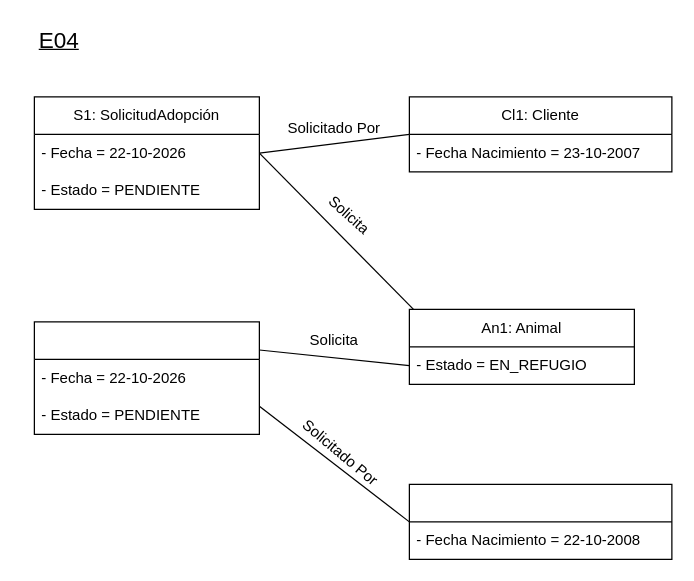
Some shapes in this 694 by 581 pixel diagram are drawn without their labels. The box of each missing label's shape, as (x1, y1, x2, y2) in pixels:
Cl2:Cliente: (408, 483, 672, 559)
S2: SolicitudAdopcion: (33, 321, 259, 434)
